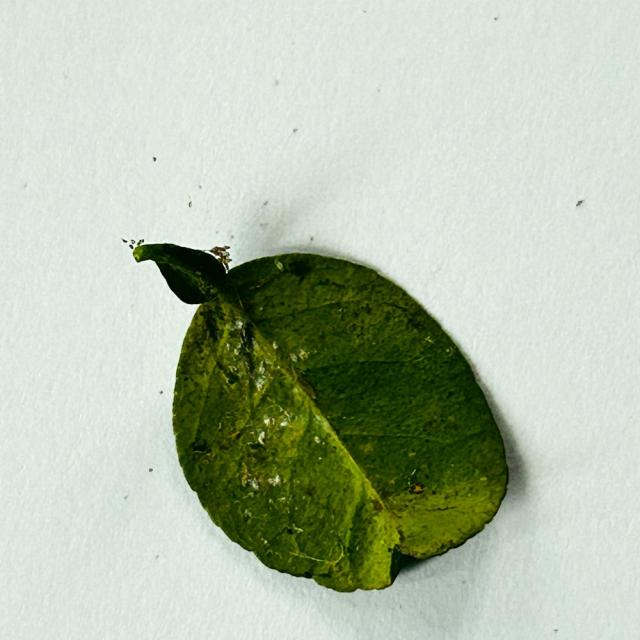Bacterial_Blight: (249, 400, 296, 445), (294, 539, 346, 568), (233, 320, 258, 379), (176, 384, 207, 429), (405, 533, 458, 559), (243, 463, 285, 492), (186, 438, 222, 465), (190, 437, 216, 466), (245, 442, 272, 469), (284, 257, 314, 280), (288, 359, 307, 387), (203, 311, 220, 341), (405, 470, 427, 493), (297, 375, 317, 400), (248, 274, 274, 289), (315, 277, 342, 291), (329, 539, 346, 561), (238, 462, 253, 486), (406, 316, 428, 332), (384, 503, 405, 518), (224, 369, 241, 386), (194, 458, 209, 476), (313, 567, 333, 579), (346, 321, 362, 335), (215, 360, 228, 374), (358, 303, 373, 315), (247, 441, 264, 451), (372, 499, 384, 512), (304, 486, 315, 497), (230, 430, 241, 441), (242, 510, 252, 522), (445, 389, 456, 399), (302, 570, 313, 578), (443, 347, 452, 356), (182, 374, 189, 381), (266, 550, 273, 557), (387, 547, 394, 553), (423, 473, 430, 479)
Lemon: (128, 243, 511, 595)
